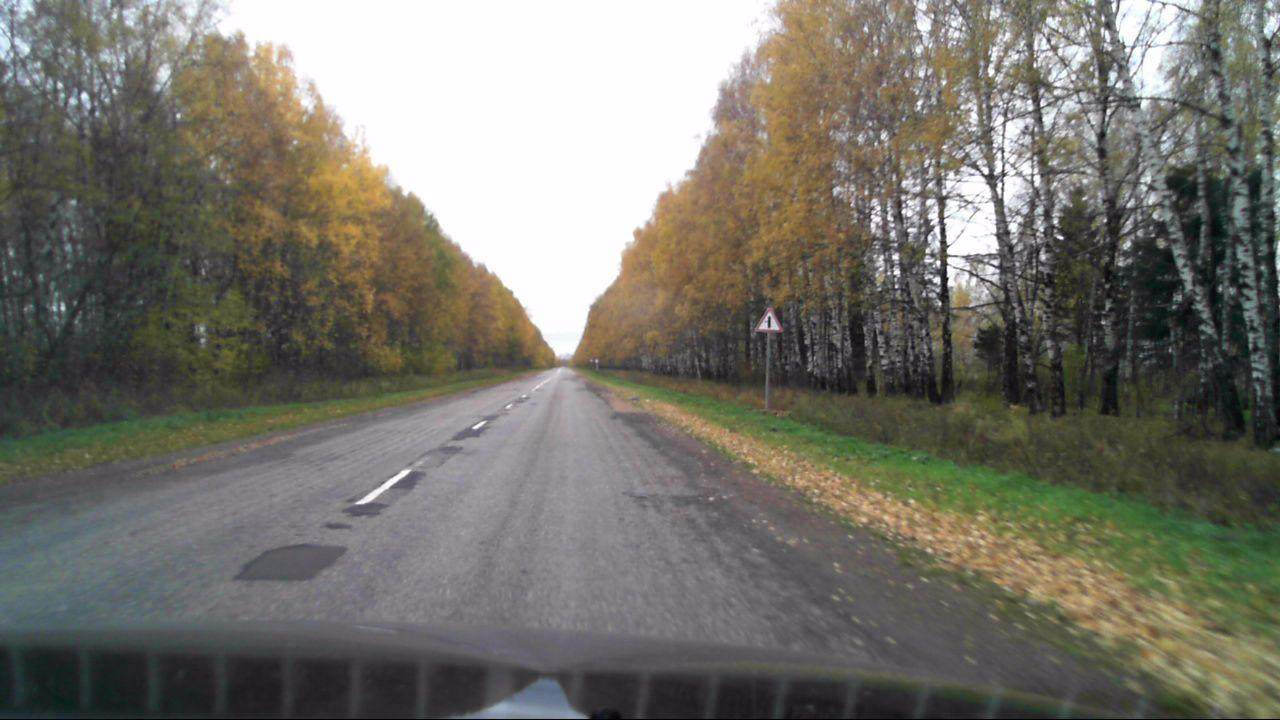road_sign: (754, 306, 785, 333)
